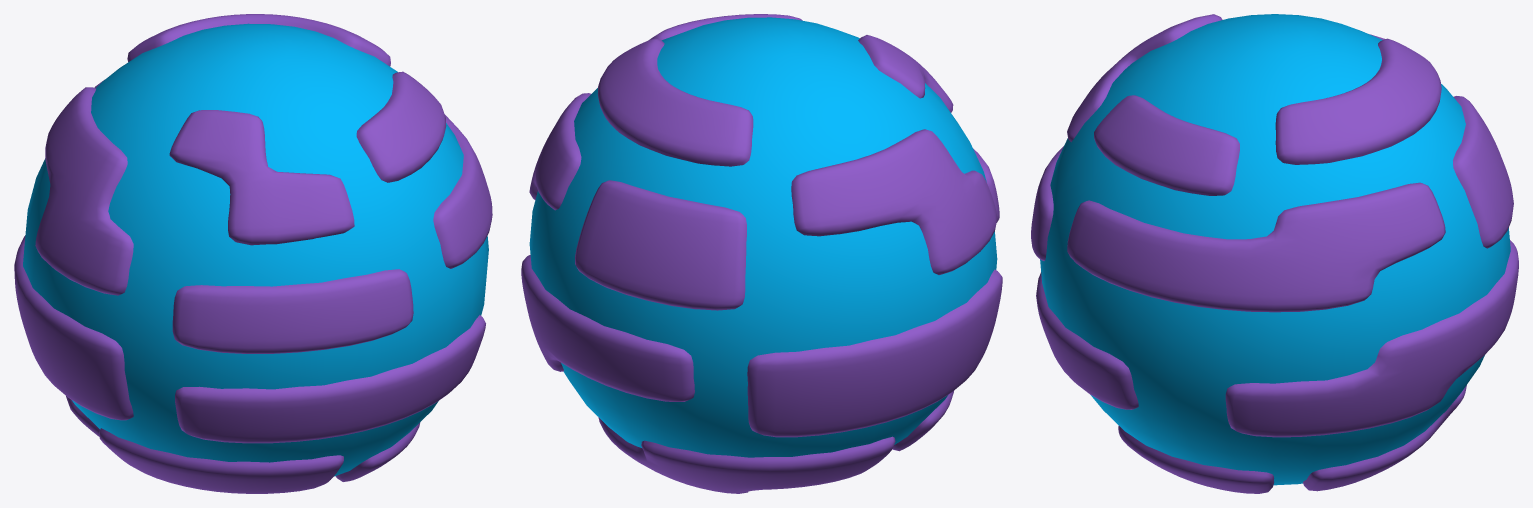
The model's file is Public_17_Planet_2.glb.
The picture shows the model from 3 angles, left to right: view 1: azimuth 30°, elevation 25°; view 2: azimuth 150°, elevation 25°; view 3: azimuth 270°, elevation 25°; orthographic projection.
Visible parts, largest first — view 1: Public_17_Planet_2; view 2: Public_17_Planet_2; view 3: Public_17_Planet_2.
Part boxes in pixels (x1,y1,x2,y2): Public_17_Planet_2: (14, 14, 492, 493); Public_17_Planet_2: (521, 14, 1002, 493); Public_17_Planet_2: (1031, 14, 1518, 493).
Bounding box in the file's own units: 6.36 × 6.21 × 6.42.
1 material, 1 textured.
